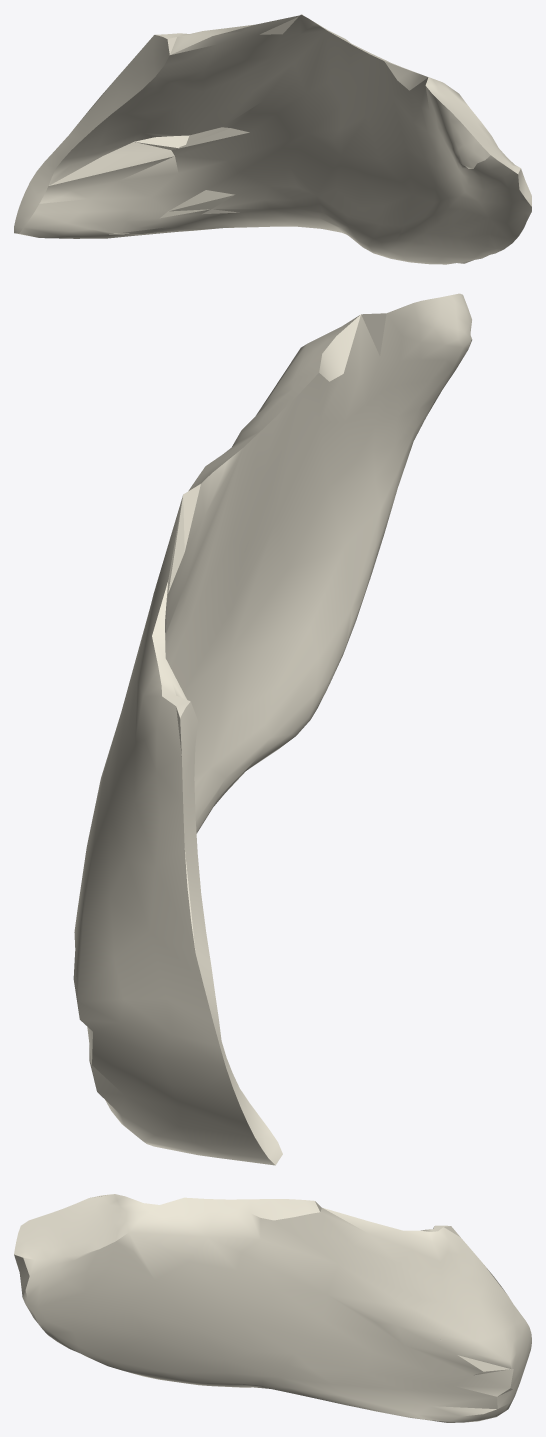
Rendered from fma57460_mm2119m.glb.
3 views of the same model, one above another, from view 1: azimuth 30°, elevation 25°; view 2: azimuth 150°, elevation 25°; view 3: azimuth 270°, elevation 25° (orthographic). The views are drawn at different scales.
Visible parts, largest first — view 1: FMA57460_MM2119M; view 2: FMA57460_MM2119M; view 3: FMA57460_MM2119M.
Boxes of the visible parts, x1,y1,x2,y2 form: FMA57460_MM2119M: [14, 14, 531, 264]; FMA57460_MM2119M: [73, 293, 472, 1165]; FMA57460_MM2119M: [14, 1194, 531, 1422].
Size of the model in its own units: 0.0115 by 0.0144 by 0.0263.
